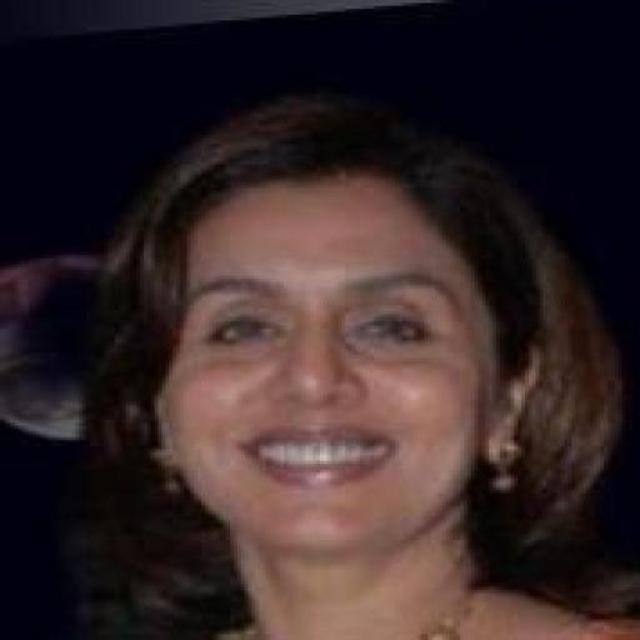bareface: (124, 139, 507, 572)
